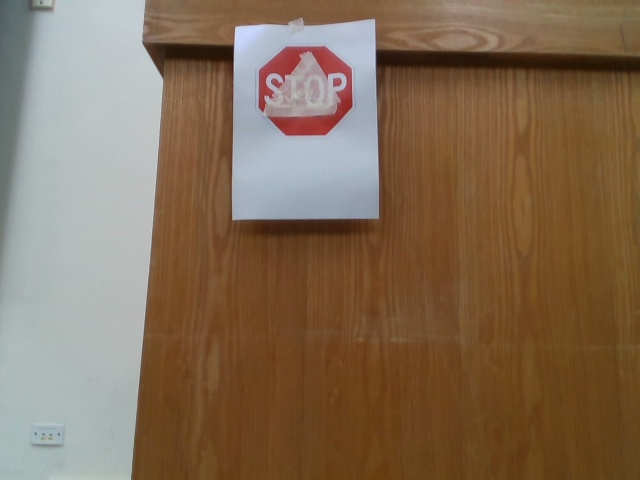stop: (255, 44, 361, 144)
